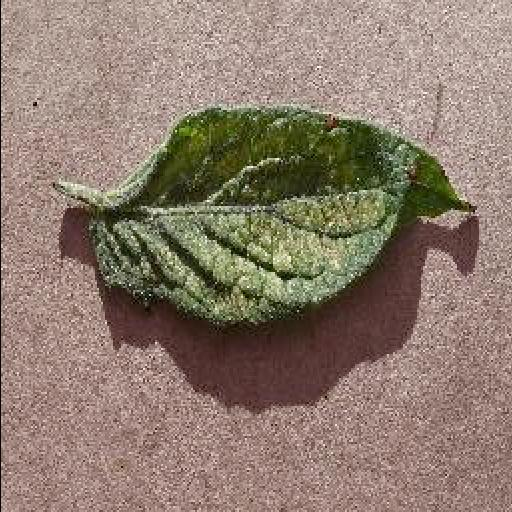disease_tomato: (86, 109, 478, 327)
